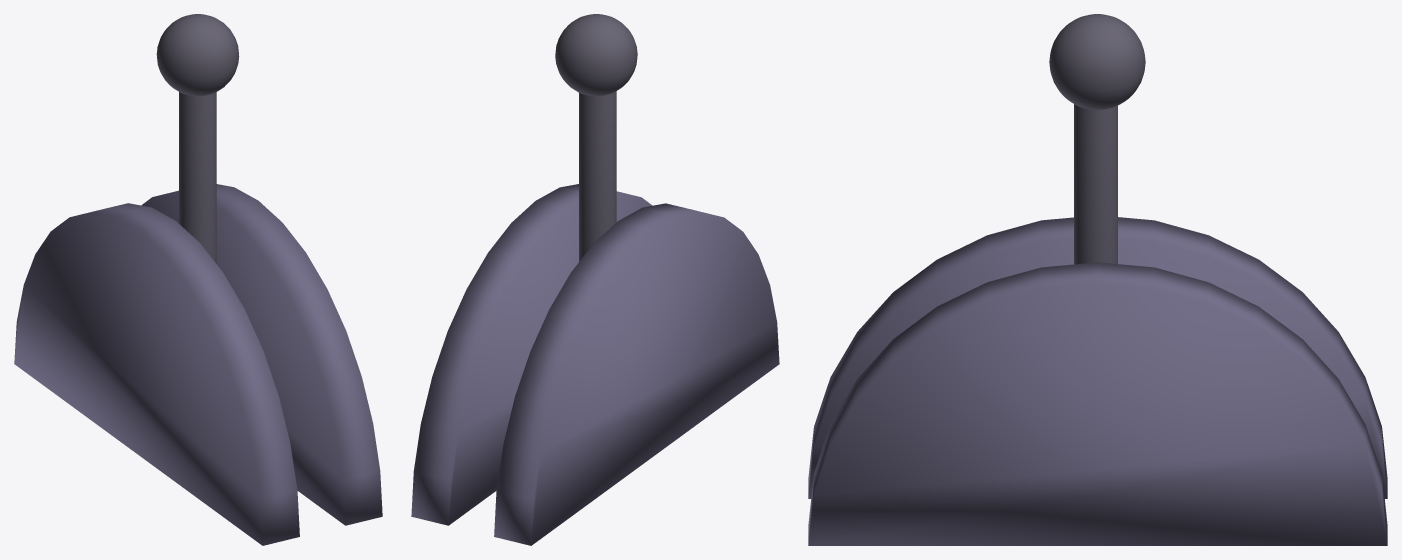
File: switch.fbx
3 views of the same model, side by side, from view 1: azimuth 30°, elevation 25°; view 2: azimuth 150°, elevation 25°; view 3: azimuth 270°, elevation 25° (orthographic). The views are drawn at different scales.
Parts seen in each view (by area): view 1: dodai, poor; view 2: dodai, poor; view 3: dodai, poor.
Part boxes in pixels (x1,y1,x2,y2): dodai: [14, 184, 382, 545]; poor: [156, 14, 239, 263]; dodai: [411, 184, 779, 545]; poor: [555, 14, 637, 261]; dodai: [808, 217, 1387, 545]; poor: [1049, 14, 1145, 264].
Bounding box in the file's own units: 55.75 × 188 × 200.
